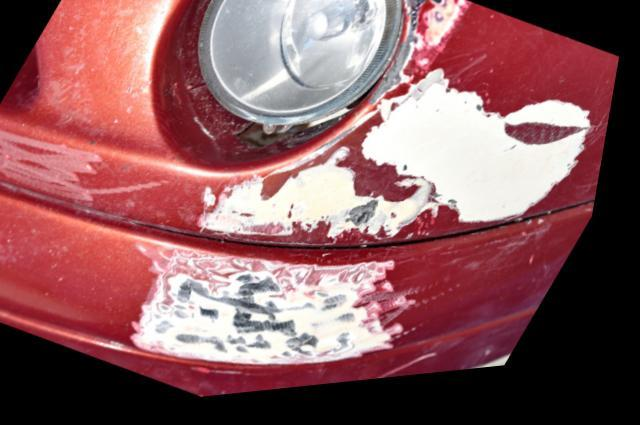scratch: (183, 0, 610, 256), (131, 239, 424, 382), (0, 123, 169, 217)
